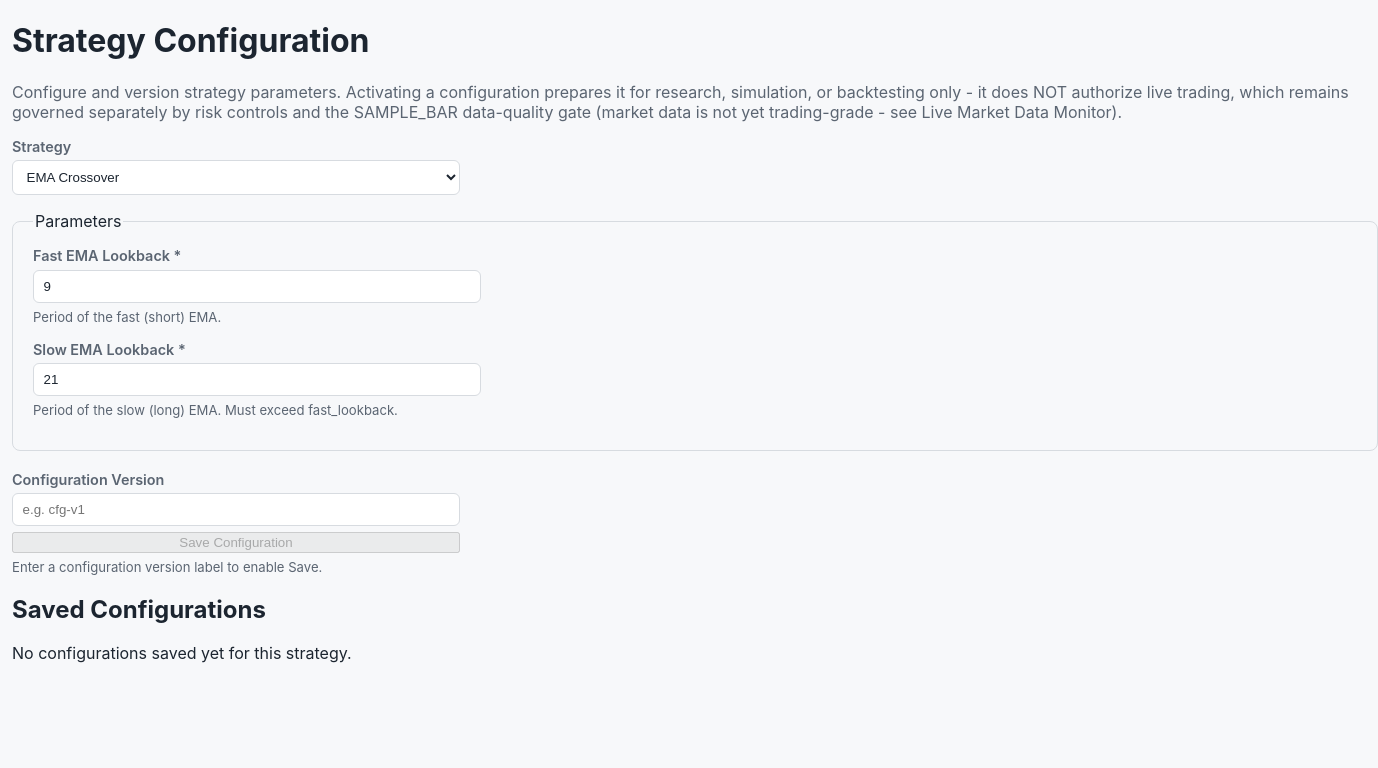
Test: StrategyConfigurationPage › clears stale parameter values when the strategy selection changes (dependent dropdowns)
The image size is (1378, 768).
Expected: the number field labelled "Fast EMA Lookback *" is shown, [33, 270, 481, 303]
Select "SMA Trend Filter" in the dropdown labelled "Strategy" at [236, 178], box [12, 160, 460, 196]
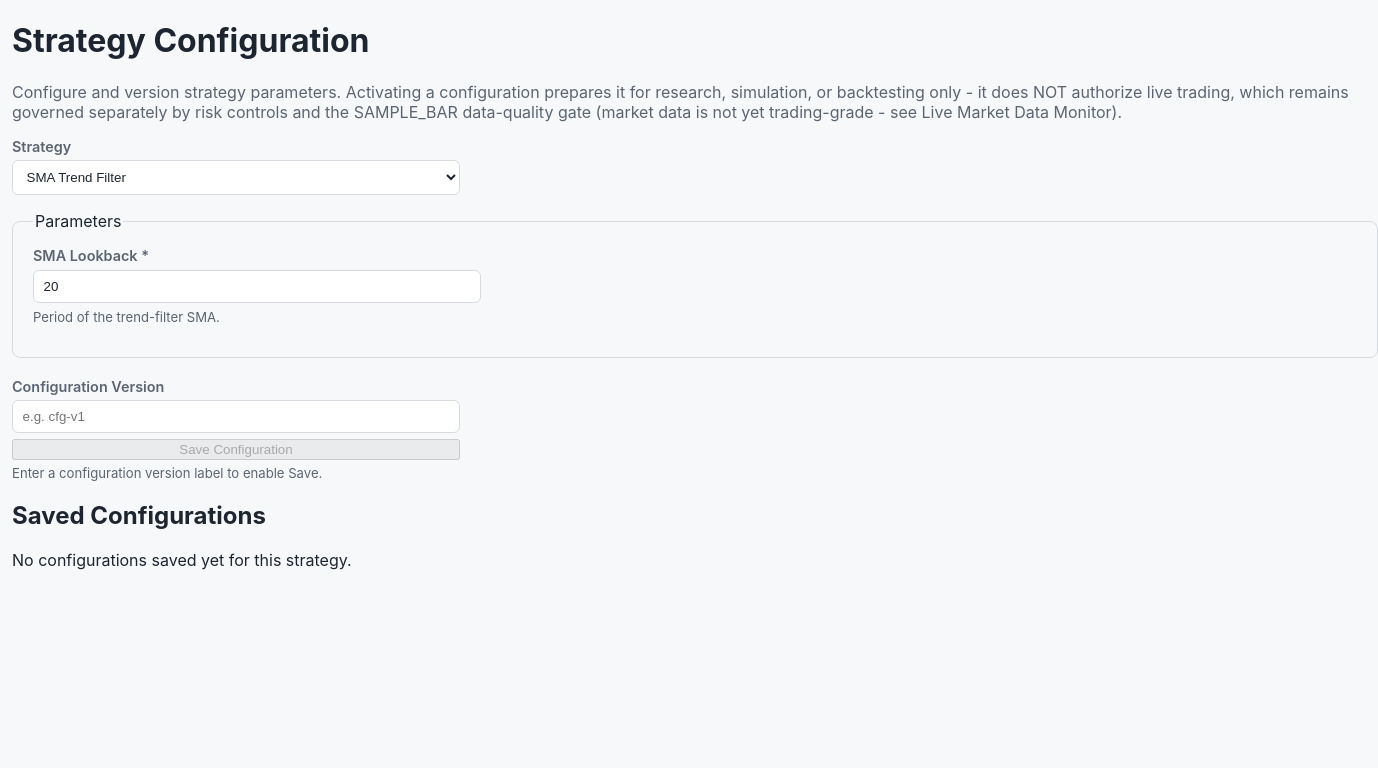
Expected: the number field labelled "SMA Lookback *" is shown, [33, 270, 481, 303]
Expected: the label labelled "Fast EMA Lookback" is gone
